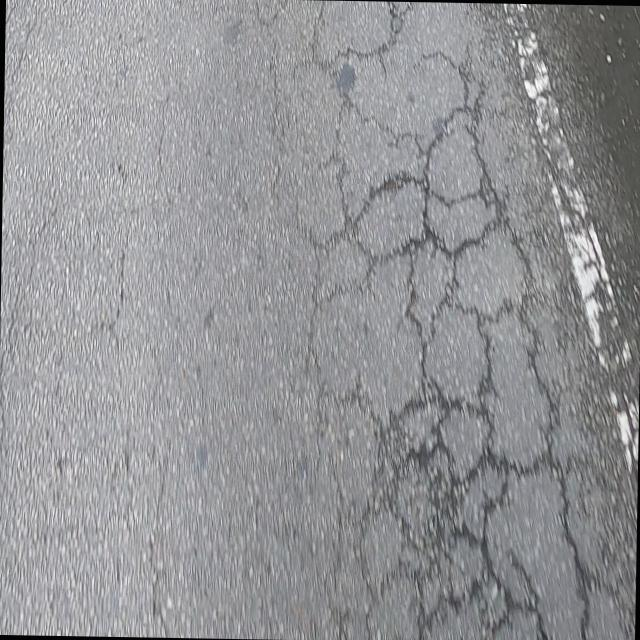Retak-Buaya: (306, 2, 592, 640)
